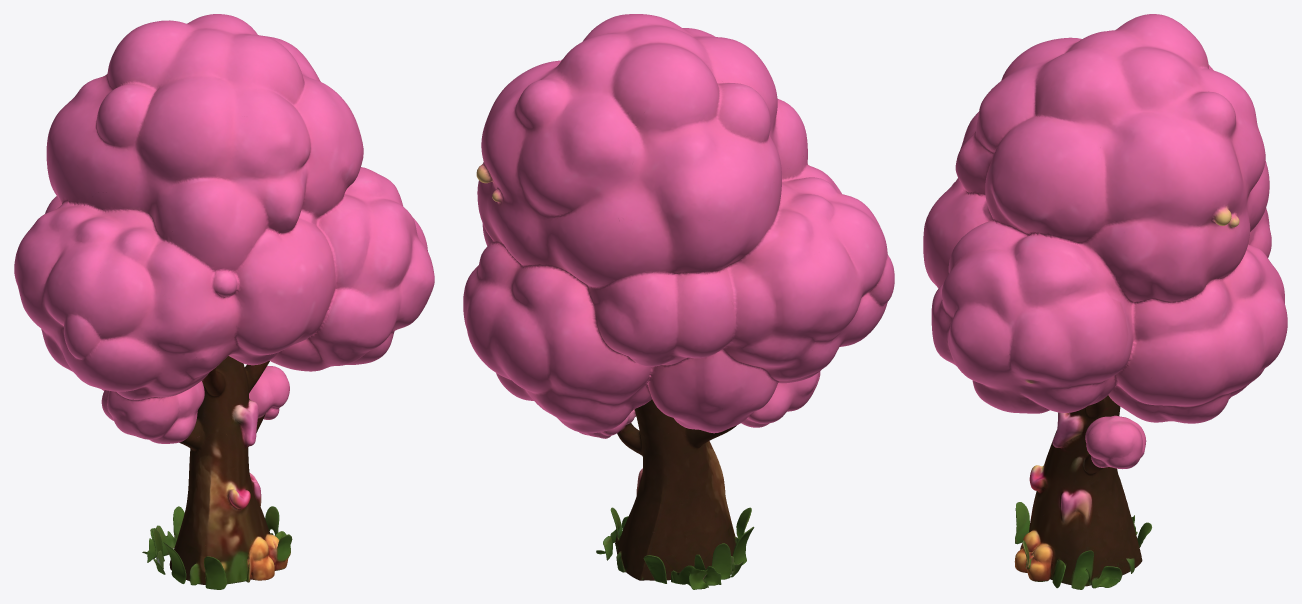
The model's file is Meshy_AI_Bubblegum_Bloom_1019071024_texture.fbx.
3 views of the same model, side by side, from view 1: azimuth 30°, elevation 25°; view 2: azimuth 150°, elevation 25°; view 3: azimuth 270°, elevation 25° (orthographic). The views are drawn at different scales.
Visible parts, largest first — view 1: Mesh_0; view 2: Mesh_0; view 3: Mesh_0.
Boxes of the visible parts, box(x1,y1,x2,y2) form: Mesh_0: box(14, 14, 434, 589); Mesh_0: box(463, 14, 894, 589); Mesh_0: box(923, 14, 1287, 589).
Bounding box in the file's own units: 140 × 190 × 119.
Materials: 1 (1 with a texture image).
